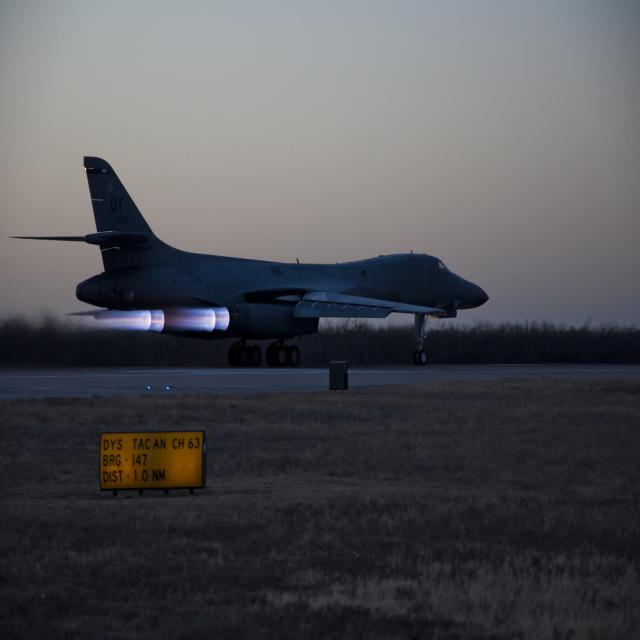MIL_Plane: (7, 154, 489, 368)
